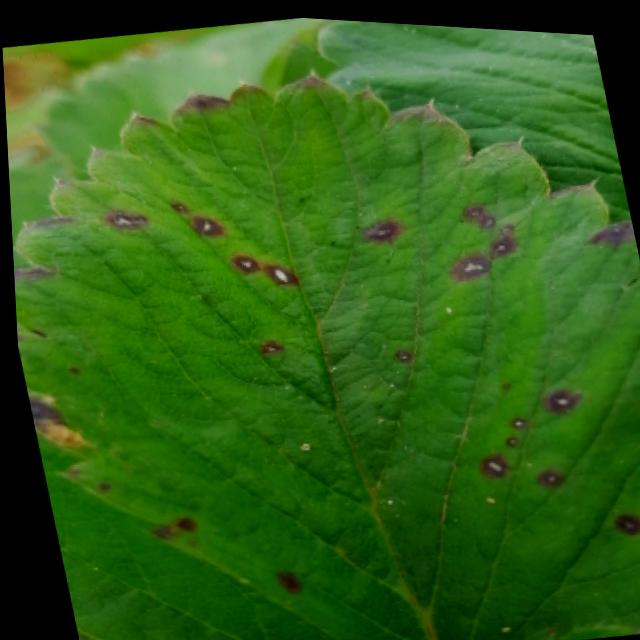Leaf Spot: (10, 64, 640, 640), (31, 431, 337, 640)
